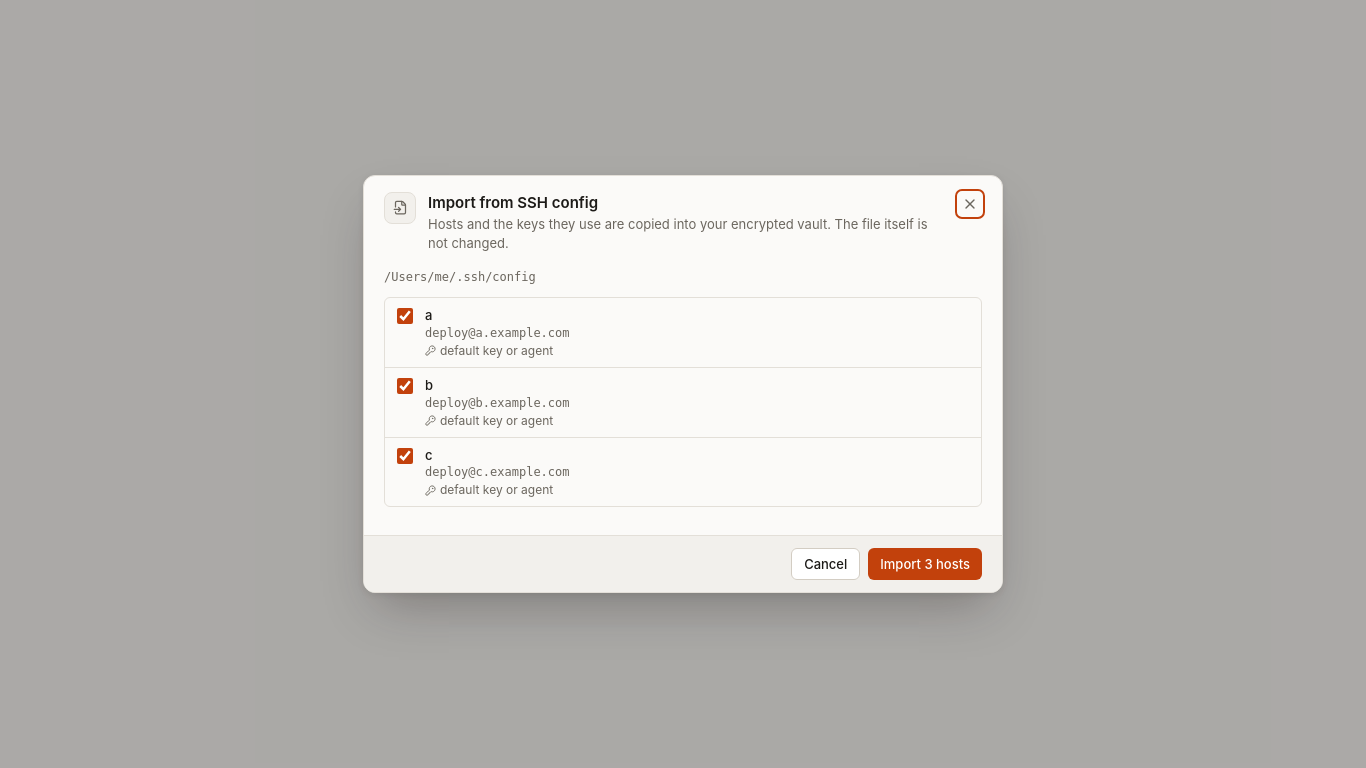
Test: ImportSshConfigDialog › imports the selected hosts in file order and reports the outcome
Step 1. Click the checkbox labelled "b" → (405,386), box [397,378,413,394]
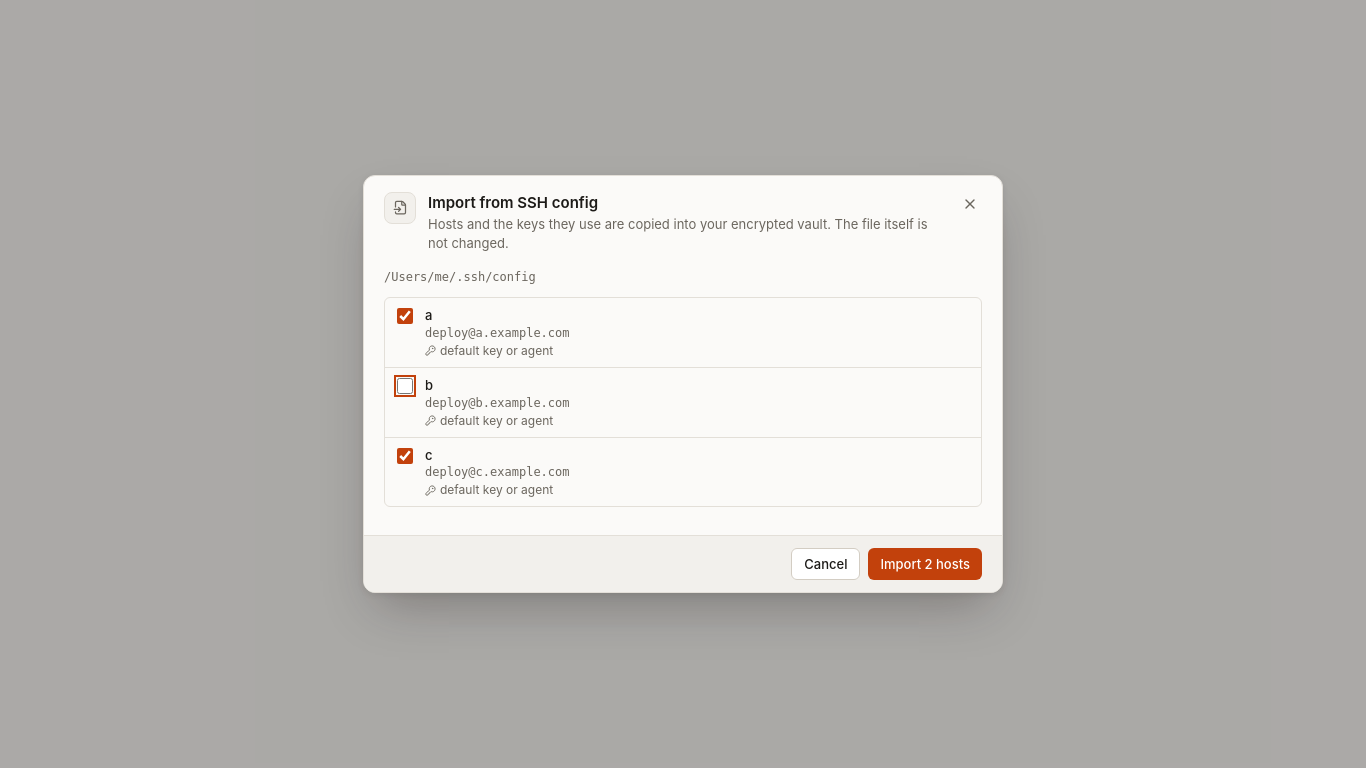
Step 2. Click the checkbox labelled "b" → (405,386), box [397,378,413,394]
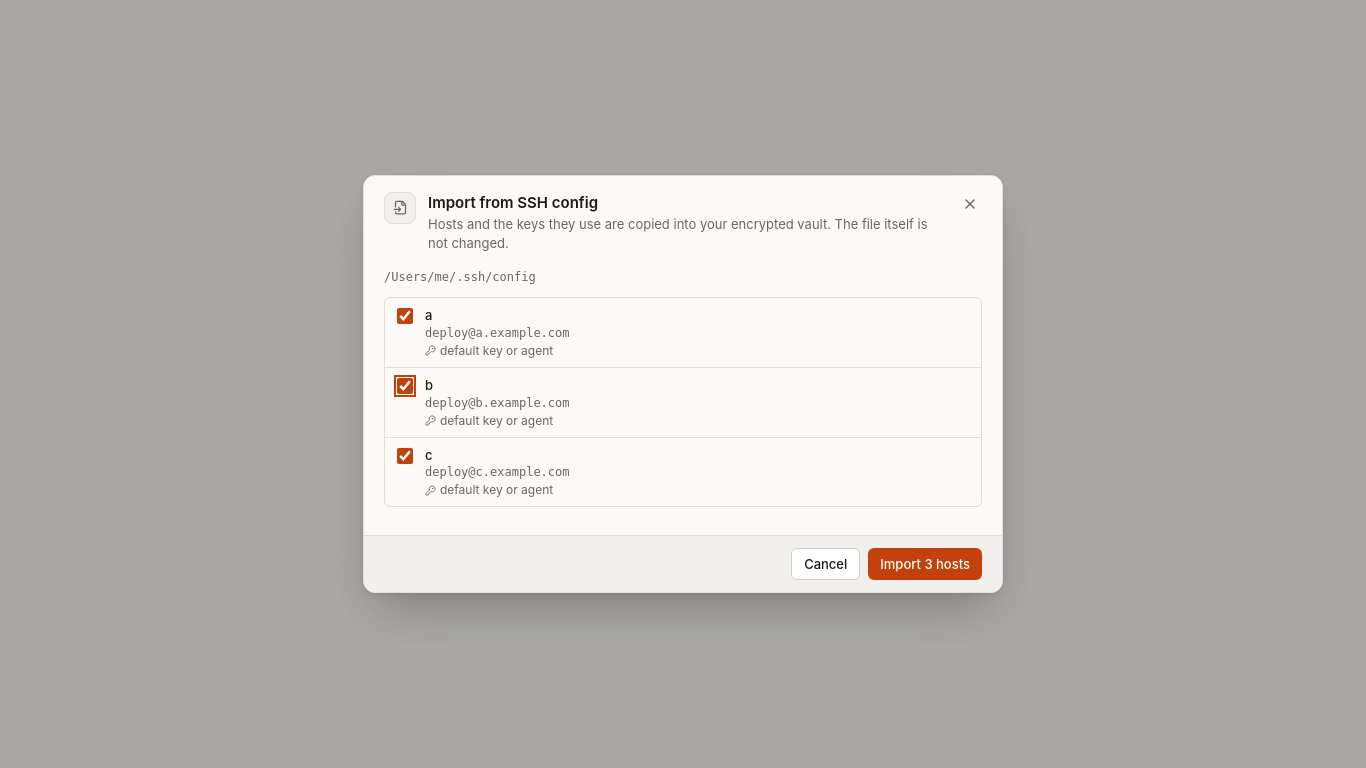
Step 3. Click the button "Import 3 hosts" → (925,564), box [868,548,982,580]
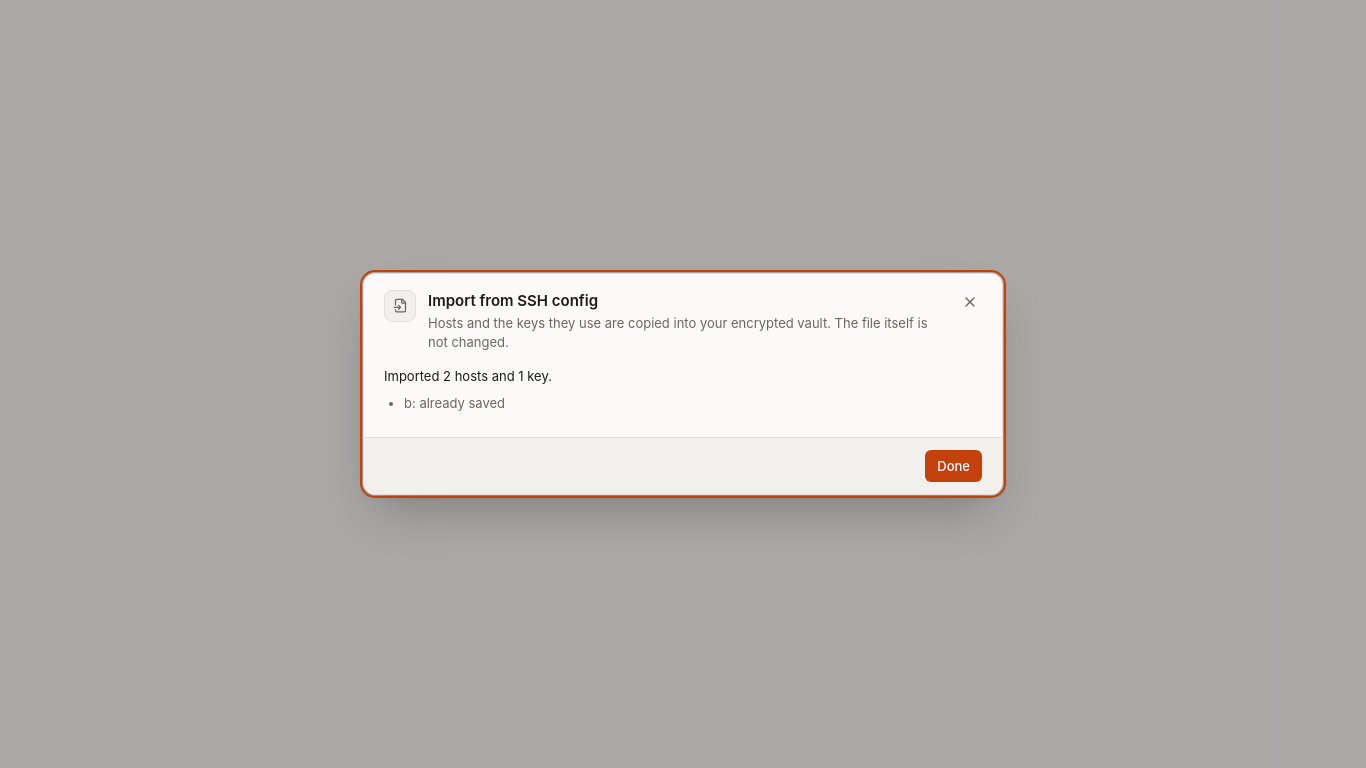
Result: the message reads "Imported 2 hosts and 1 key." at [384,368,552,384]
Result: the list named "Skipped hosts" reads "b: already saved" at [404,395,505,411]
